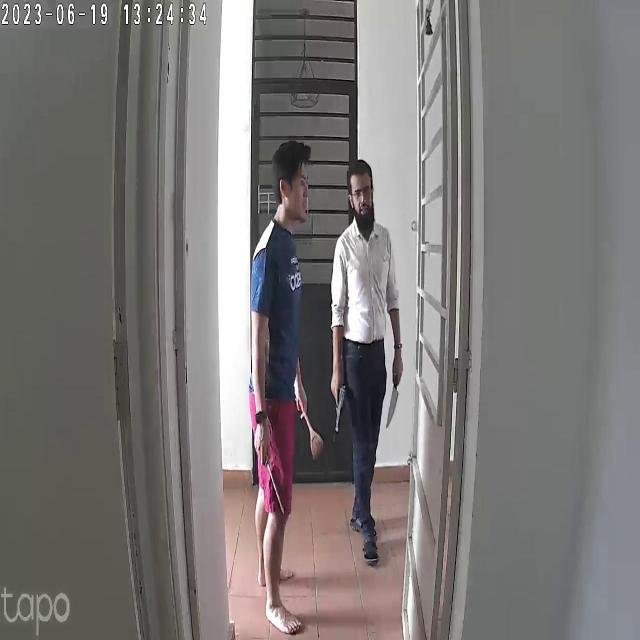Gun: (318, 373, 357, 440)
Knife: (381, 374, 409, 437)
